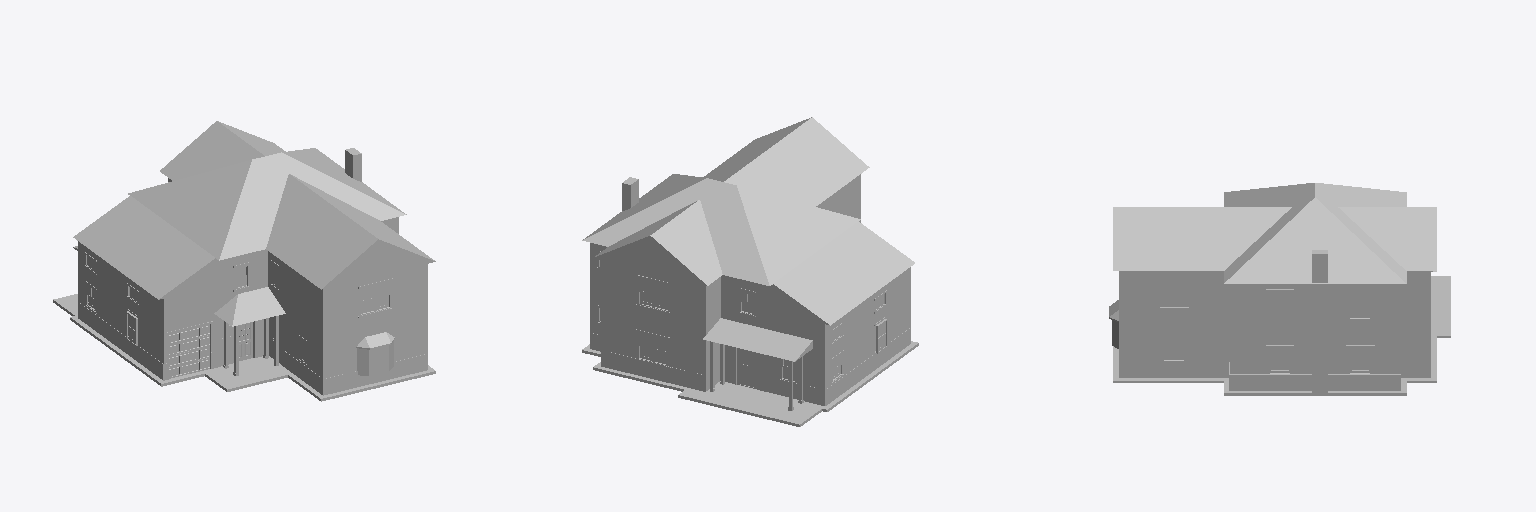
File: house(27_nonmanifold_left)_MappleSolved.obj
3 renders of one model, left to right at view 1: azimuth 30°, elevation 25°; view 2: azimuth 150°, elevation 25°; view 3: azimuth 270°, elevation 25°, orthographic.
Bounding box in the file's own units: 14.1 × 8.8 × 17.